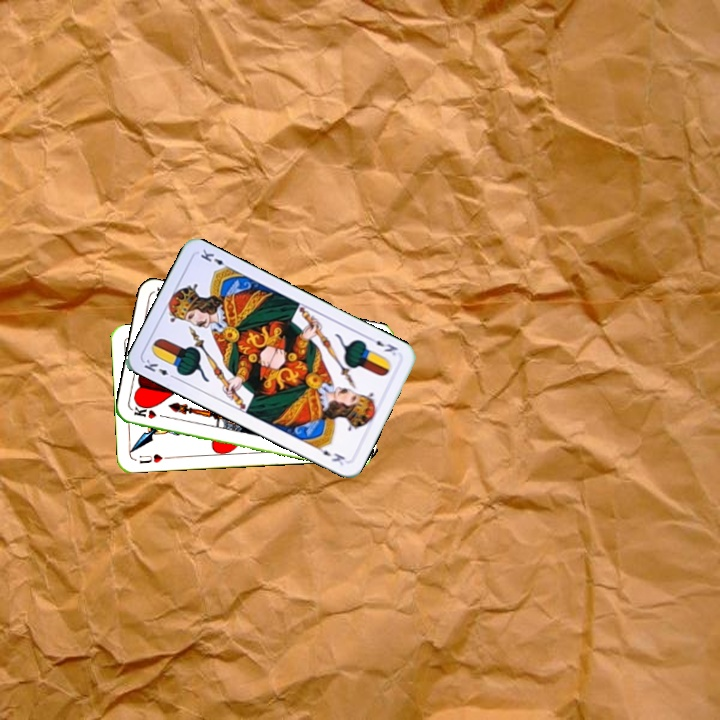EK: (140, 355, 179, 382), (364, 333, 400, 358)
HK: (130, 402, 170, 421)
HU: (135, 450, 172, 466)
